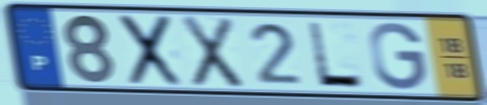2: (247, 21, 305, 87)
8: (60, 12, 118, 86)
G: (367, 20, 430, 93)
L: (305, 19, 368, 91)
X: (179, 13, 246, 91), (117, 12, 184, 88)
